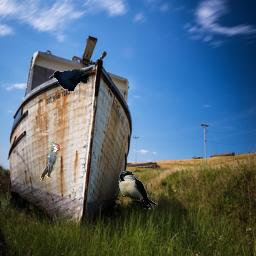Crow: (49, 69, 89, 91)
Swallow: (118, 171, 158, 210)
Woodpecker: (40, 142, 60, 181)
